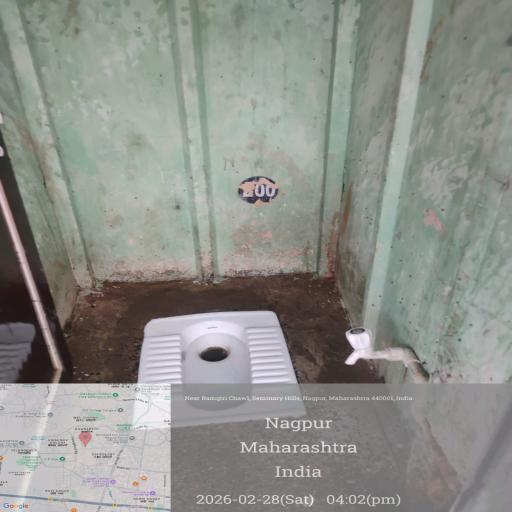clean_indian: (140, 294, 330, 444)
dirty_floor: (28, 0, 489, 272)
partial_dirty_floor: (0, 376, 435, 512)
